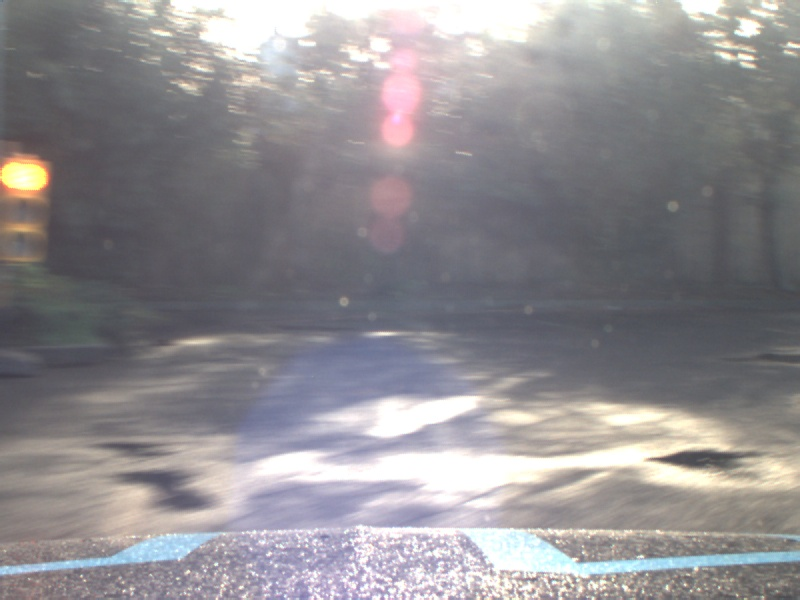Red: (1, 155, 50, 264)
